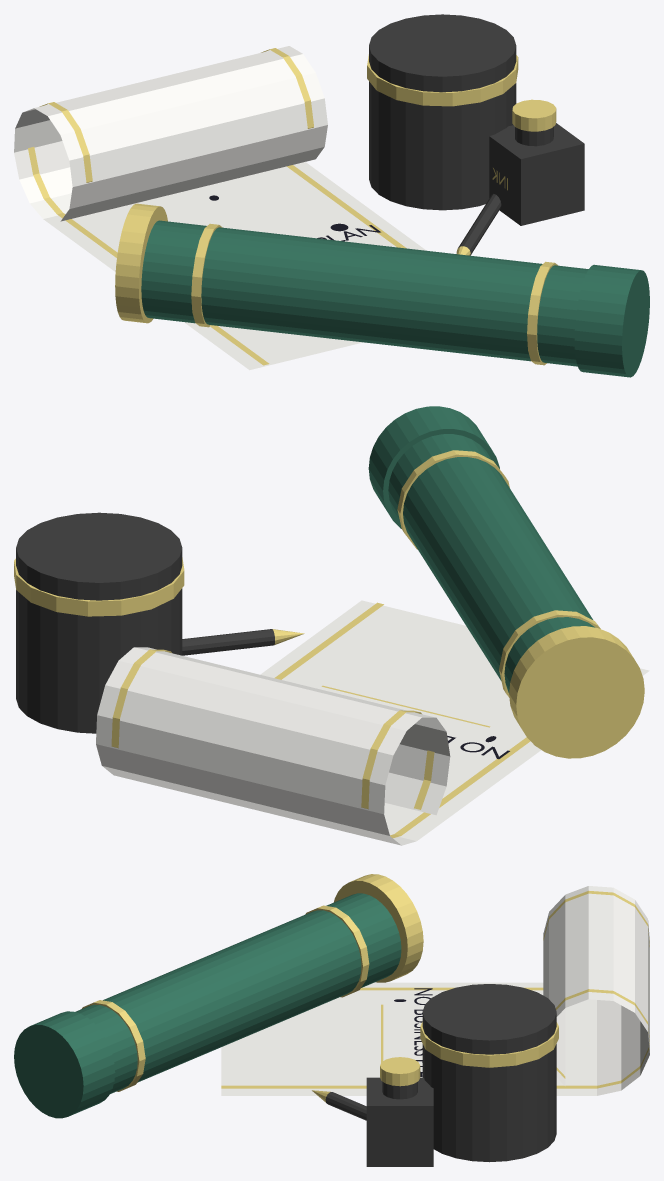
Rendered from story_01_blueprint.glb.
3 views of the same model, one above another, from view 1: azimuth 30°, elevation 25°; view 2: azimuth 150°, elevation 25°; view 3: azimuth 270°, elevation 25° (orthographic). The views are drawn at different scales.
Parts seen in each view (by area): view 1: BlankPaper, BlueprintTube, CoffeeCup, InkBottle, TubeCap, GoldSeal, CoffeeCupTrim, PaperGoldLineLeft, PaperGoldLineRight, InkCap, TubeRing2, TubeRing1 (+2 smaller); view 2: BlankPaper, CoffeeCup, BlueprintTube, GoldSeal, TubeCap, CoffeeCupTrim, PaperGoldLineLeft, PaperGoldLineRight, PenBody, TubeRing2, TubeRing1; view 3: BlankPaper, BlueprintTube, CoffeeCup, TubeCap, InkBottle, GoldSeal, CoffeeCupTrim, PaperGoldLineRight, InkCap, TubeRing2, TubeRing1, PaperGoldLineLeft (+2 smaller).
Boxes of the visible parts, x1,y1,x2,y2 form: BlankPaper: (14,46,425,370); BlueprintTube: (141,220,588,366); CoffeeCup: (369,14,516,210); InkBottle: (489,123,584,225); TubeCap: (574,264,649,377); GoldSeal: (115,203,167,323); CoffeeCupTrim: (367,54,518,106); PaperGoldLineLeft: (28,102,269,365); PaperGoldLineRight: (261,48,406,248); InkCap: (512,99,556,131); TubeRing2: (527,261,557,365); TubeRing1: (191,223,222,327); BlankPaper: (96,600,649,845); CoffeeCup: (16,512,182,733); BlueprintTube: (388,434,595,692); GoldSeal: (509,626,644,758); TubeCap: (368,406,499,528); CoffeeCupTrim: (14,557,184,616); PaperGoldLineLeft: (361,710,530,838); PaperGoldLineRight: (111,602,383,748); PenBody: (182,629,274,655); TubeRing2: (397,450,509,549); TubeRing1: (499,610,600,697); BlankPaper: (221,886,649,1095); BlueprintTube: (75,893,401,1093); CoffeeCup: (422,984,556,1162); TubeCap: (14,1011,115,1118); InkBottle: (366,1077,433,1166); GoldSeal: (333,874,423,982); CoffeeCupTrim: (420,1022,558,1067); PaperGoldLineRight: (221,989,649,1088); InkCap: (380,1057,420,1086); TubeRing2: (82,1000,145,1091); TubeRing1: (305,905,369,997); PaperGoldLineLeft: (360,890,649,990).
Bounding box in the file's own units: 1.13 × 0.31 × 1.42.
